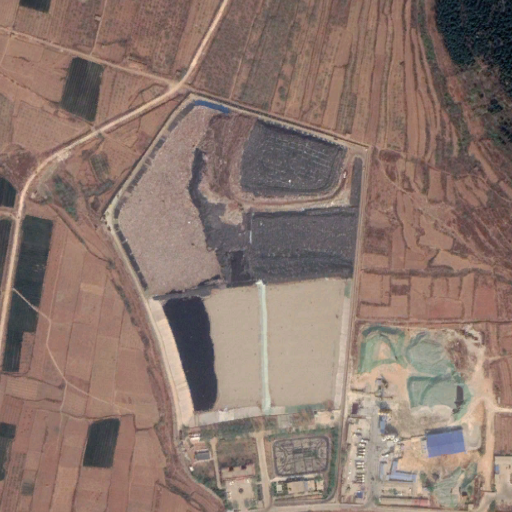cw: (359, 324, 484, 512)
lf: (105, 92, 378, 421)
